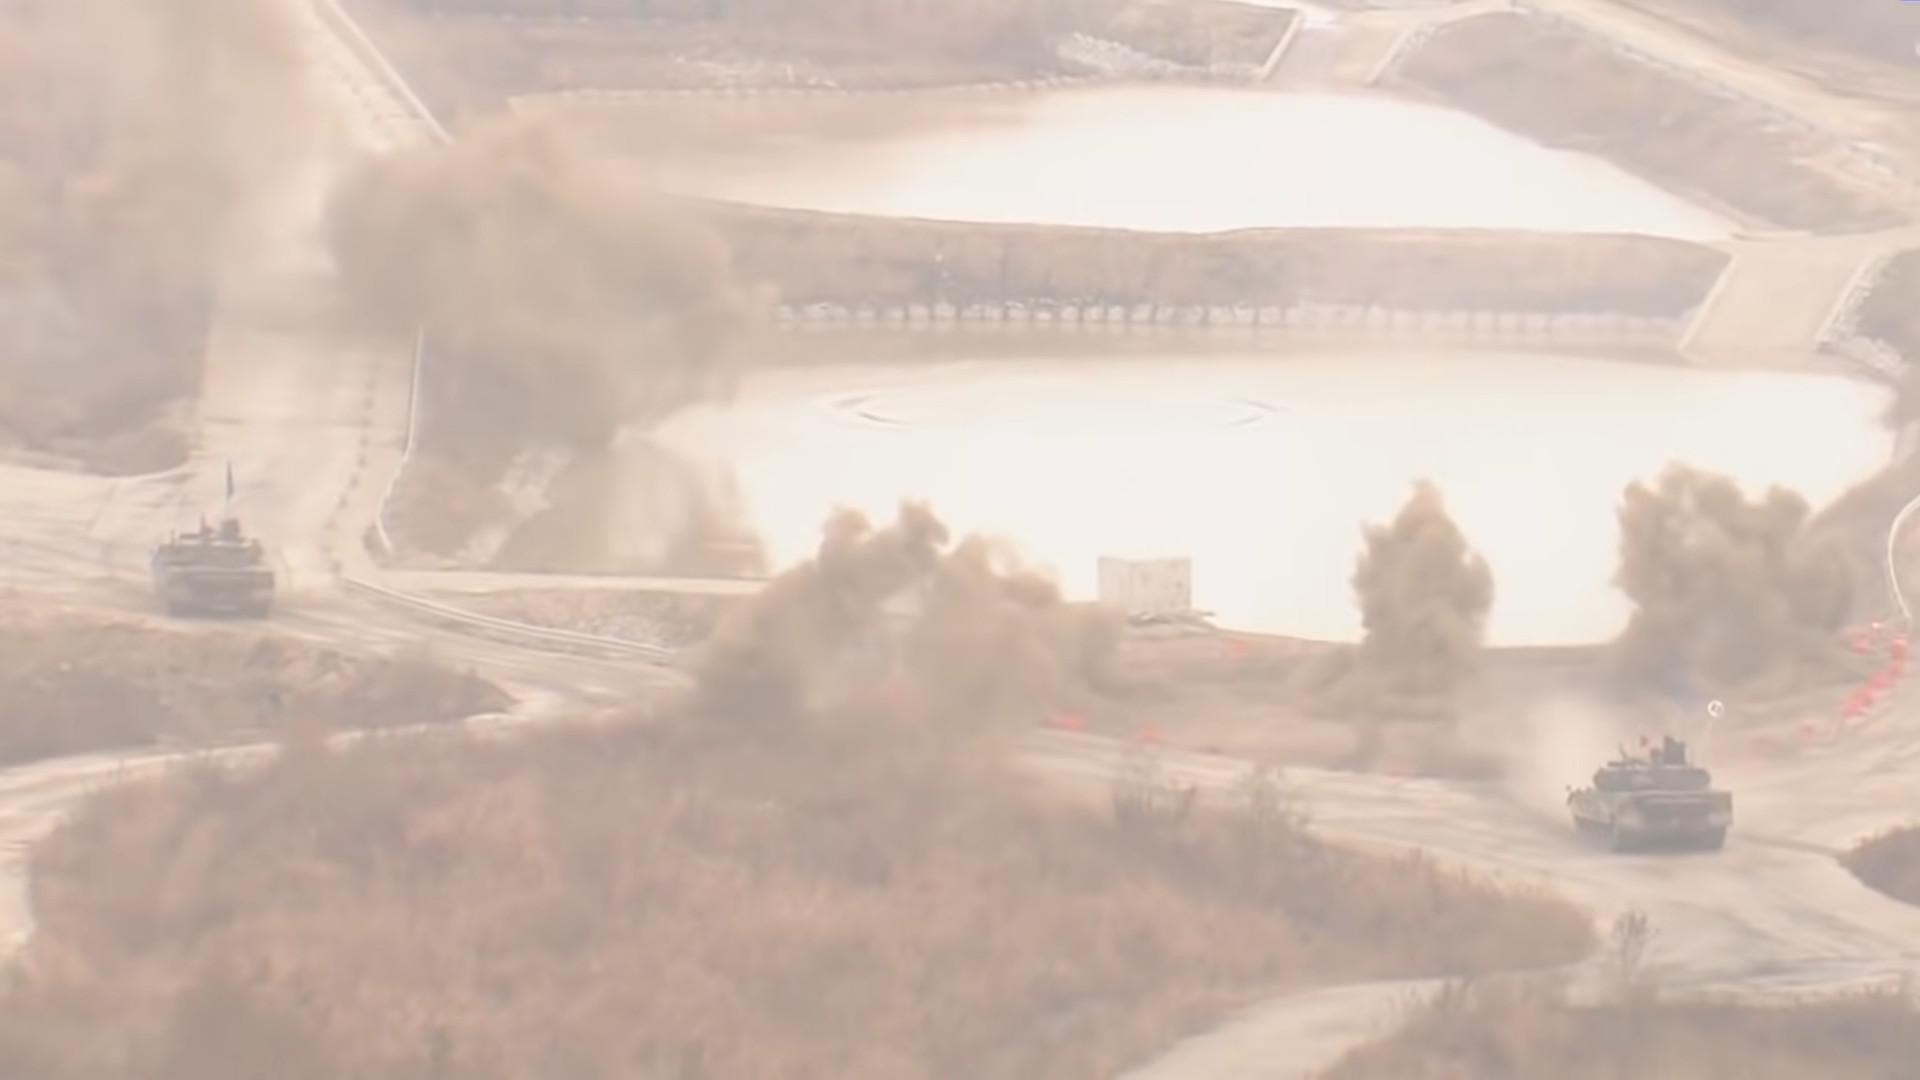tank: (1568, 732, 1733, 853), (146, 514, 276, 616)
